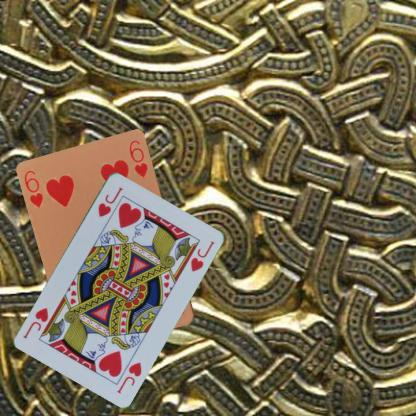6h: (22, 168, 44, 210)
Jh: (115, 358, 144, 394), (95, 184, 124, 218)
